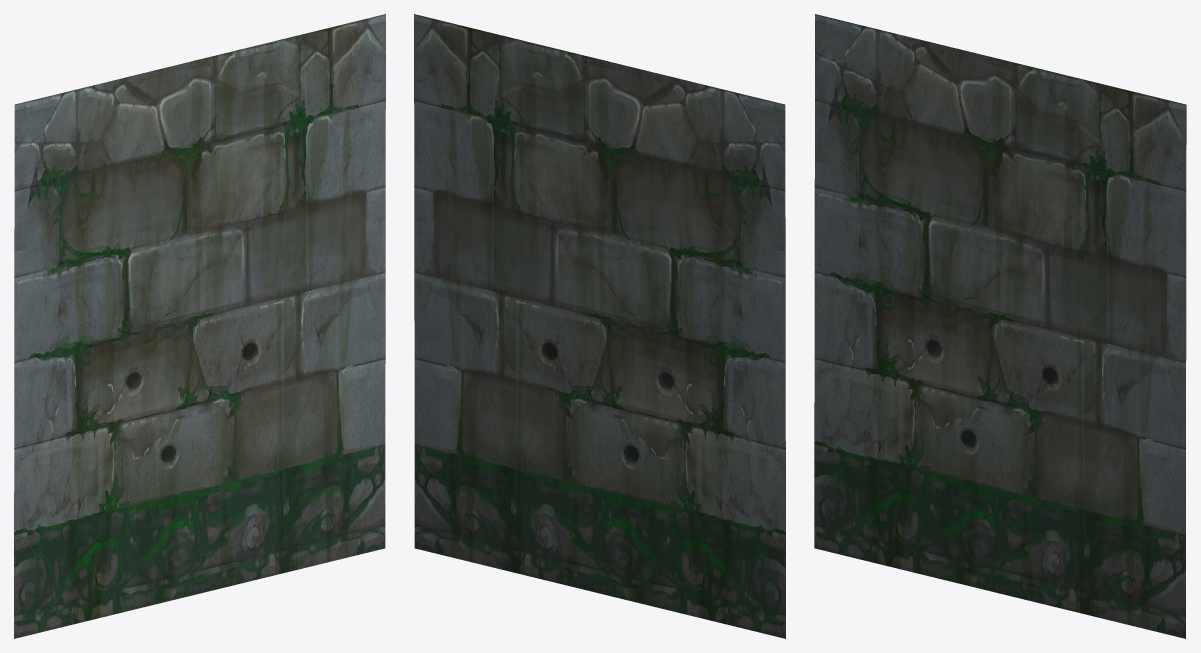
The model's file is stemple_wall_straight_dart_01.fbx.
3 views of the same model, side by side, from view 1: azimuth 30°, elevation 25°; view 2: azimuth 150°, elevation 25°; view 3: azimuth 330°, elevation 25° (orthographic).
Visible parts, largest first — view 1: obj2.012; view 2: obj2.012; view 3: obj2.012.
Part boxes in pixels (box(x1,y1,x2,y2)): obj2.012: box(14, 14, 385, 638); obj2.012: box(414, 14, 785, 638); obj2.012: box(814, 14, 1186, 638).
Size of the model in its own units: 4.01 by 5.5 by 0.000929.
